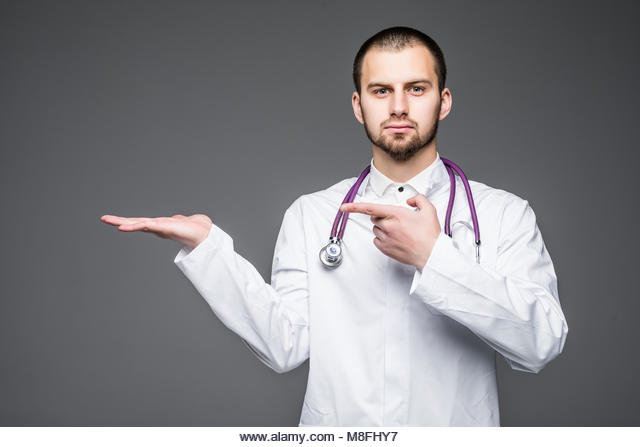hand: (79, 194, 217, 250)
